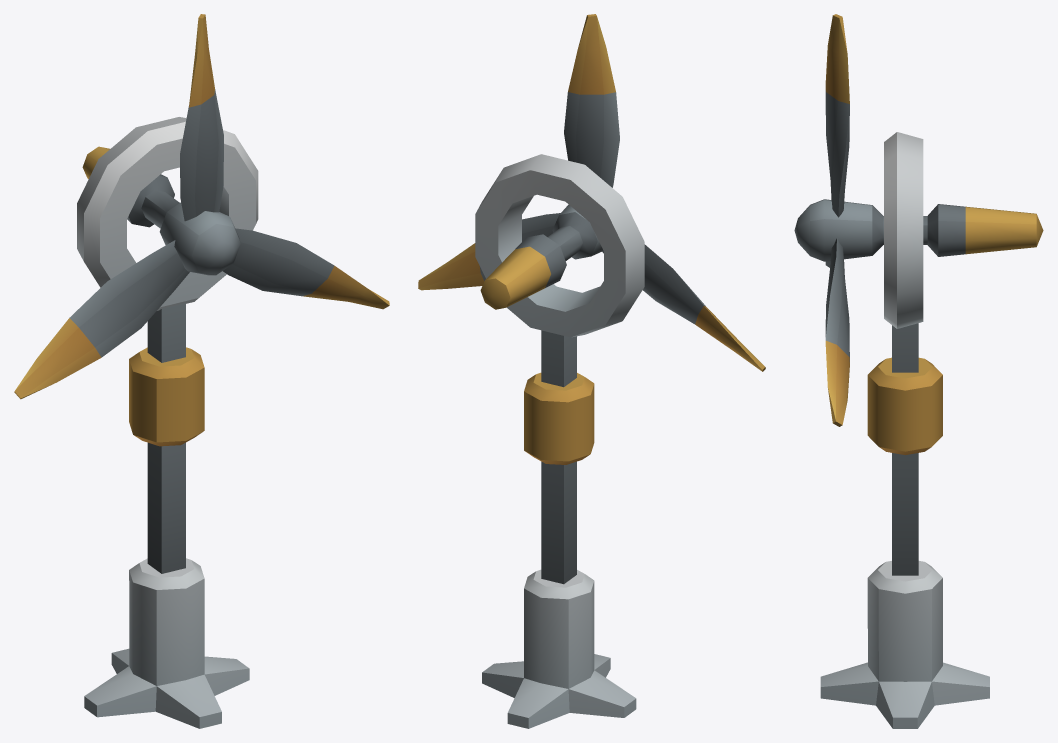
Rendered from space-windturbine-tall.glb.
3 renders of one model, left to right at view 1: azimuth 30°, elevation 25°; view 2: azimuth 150°, elevation 25°; view 3: azimuth 270°, elevation 25°, orthographic. The views are drawn at different scales.
Parts seen in each view (by area): view 1: windturbine_tall_fan, windturbine_tall; view 2: windturbine_tall_fan, windturbine_tall; view 3: windturbine_tall, windturbine_tall_fan.
Boxes of the visible parts, x1,y1,x2,y2 form: windturbine_tall_fan: (14, 14, 389, 399); windturbine_tall: (84, 303, 249, 728); windturbine_tall_fan: (418, 14, 765, 371); windturbine_tall: (482, 330, 636, 728); windturbine_tall: (820, 323, 989, 728); windturbine_tall_fan: (794, 14, 1043, 426).
Bounding box in the file's own units: 1.67 × 3 × 0.9998.
